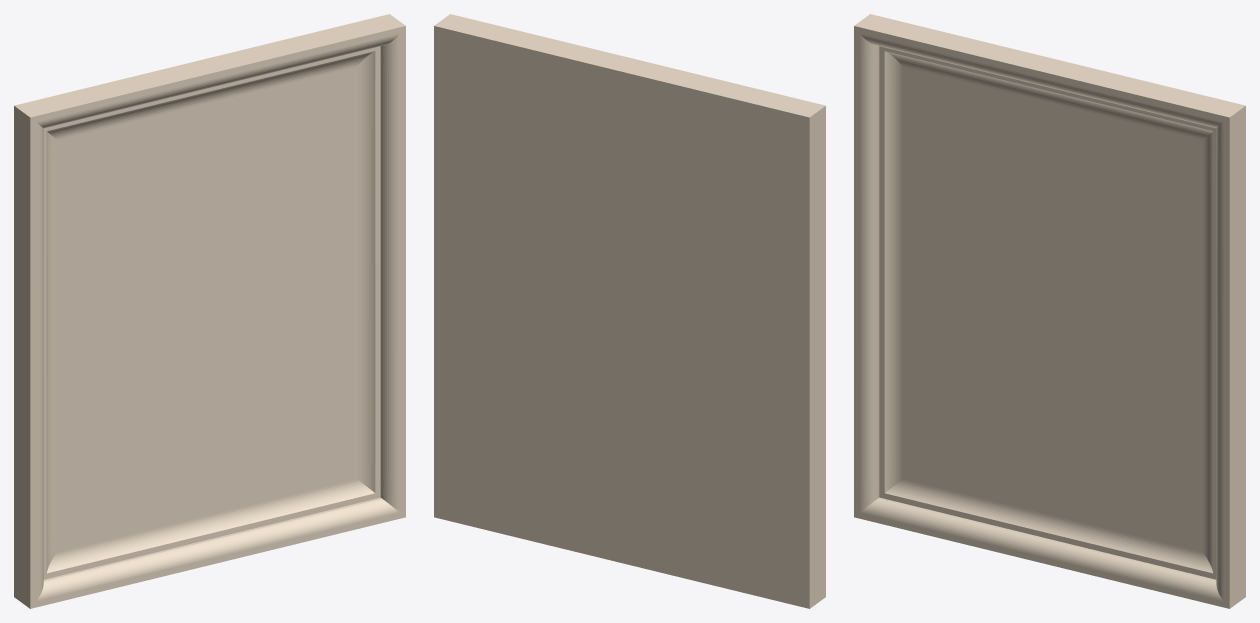
File: frame.gltf
3 renders of one model, left to right at view 1: azimuth 30°, elevation 25°; view 2: azimuth 150°, elevation 25°; view 3: azimuth 330°, elevation 25°, orthographic.
Parts seen in each view (by area): view 1: frame.001; view 2: frame.001; view 3: frame.001.
Part boxes in pixels (x1,y1,x2,y2): frame.001: (14,14,405,608); frame.001: (434,14,825,608); frame.001: (854,14,1245,608).
Bounding box in the file's own units: 200 × 250 × 15.
